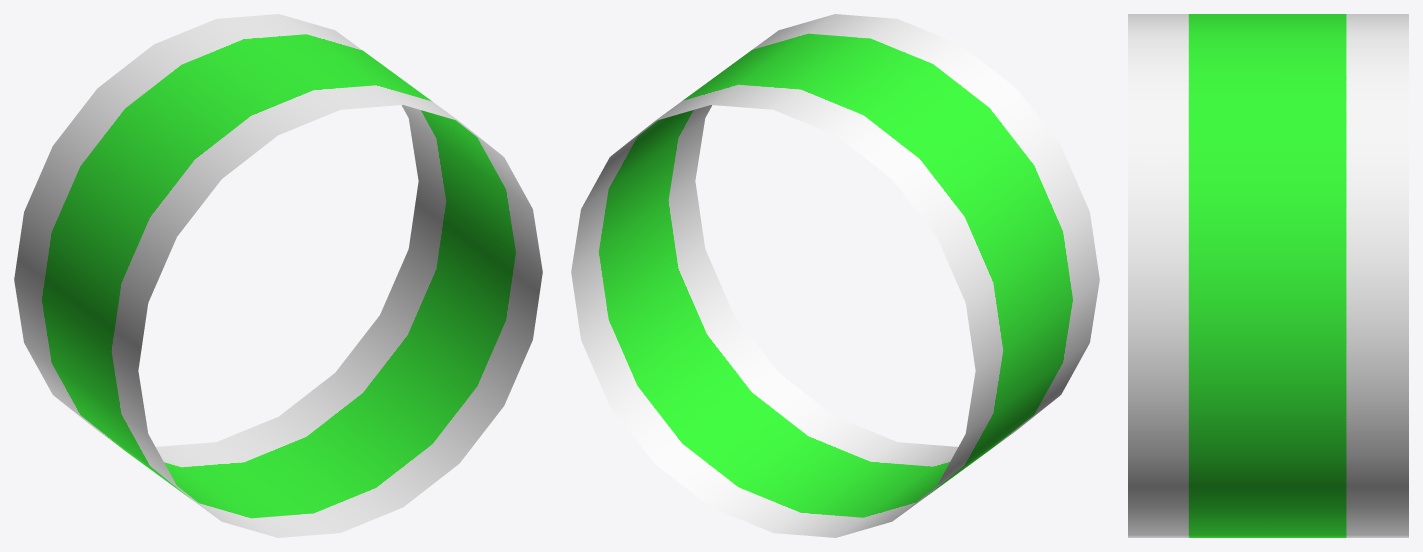
Rendered from Male_Mammoth_scream_ring.fbx.
3 views of the same model, side by side, from view 1: azimuth 30°, elevation 25°; view 2: azimuth 150°, elevation 25°; view 3: azimuth 270°, elevation 25° (orthographic). The views are drawn at different scales.
Parts seen in each view (by area): view 1: Male_Mammoth_scream_ring; view 2: Male_Mammoth_scream_ring; view 3: Male_Mammoth_scream_ring.
Boxes of the visible parts, x1=… form: Male_Mammoth_scream_ring: x1=14, y1=14, x2=542, y2=537; Male_Mammoth_scream_ring: x1=571, y1=14, x2=1099, y2=537; Male_Mammoth_scream_ring: x1=1128, y1=14, x2=1408, y2=537.
Bounding box in the file's own units: 0.2164 × 0.2164 × 0.1151.
